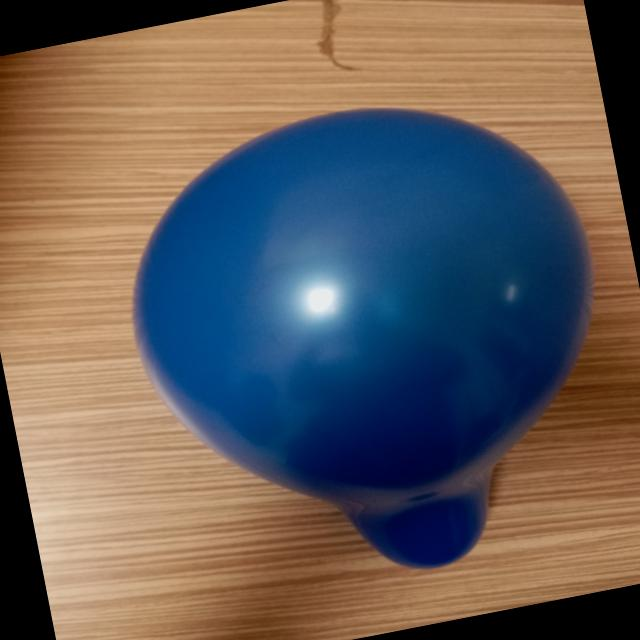balloon: (134, 108, 593, 568)
